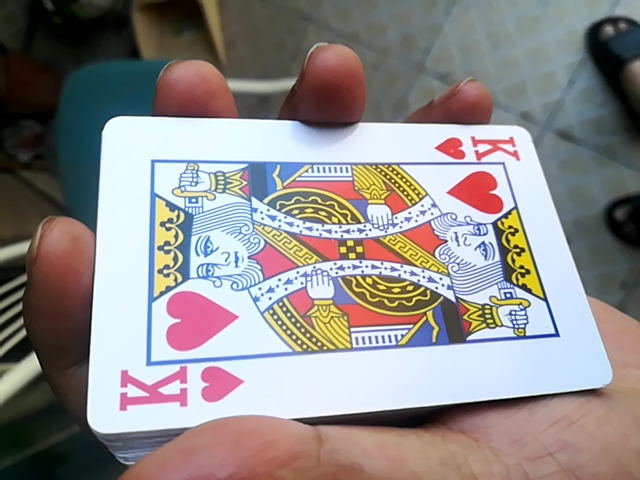hx k: (82, 107, 614, 439)
